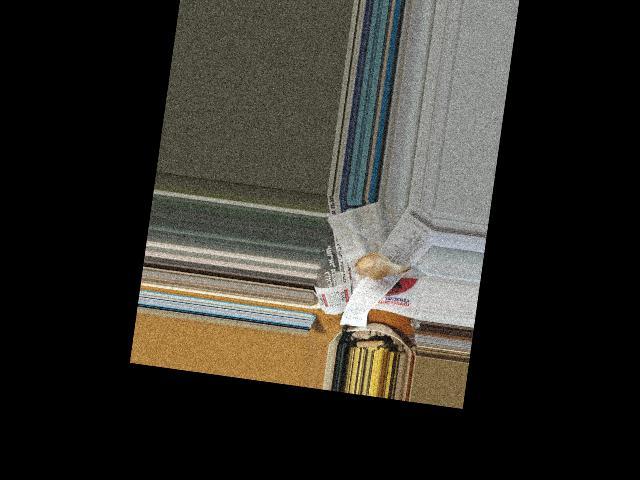onion: (355, 251, 399, 280)
